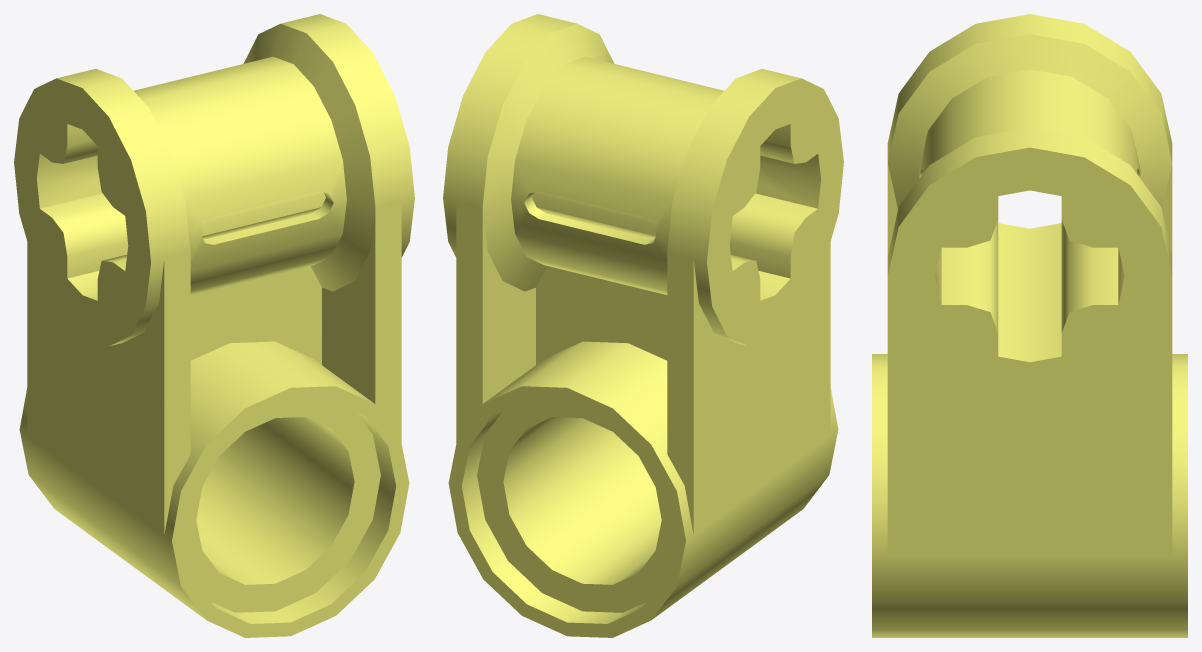
3 views of the same model, side by side, from view 1: azimuth 30°, elevation 25°; view 2: azimuth 150°, elevation 25°; view 3: azimuth 270°, elevation 25° (orthographic). The views are drawn at different scales.
Visible parts, largest first — view 1: 6536.dat; view 2: 6536.dat; view 3: 6536.dat.
Part boxes in pixels (x1=…): 6536.dat: x1=14, y1=14, x2=414, y2=637; 6536.dat: x1=443, y1=14, x2=843, y2=637; 6536.dat: x1=872, y1=14, x2=1187, y2=637.
Size of the model in its own units: 0.008 by 0.0152 by 0.008.
